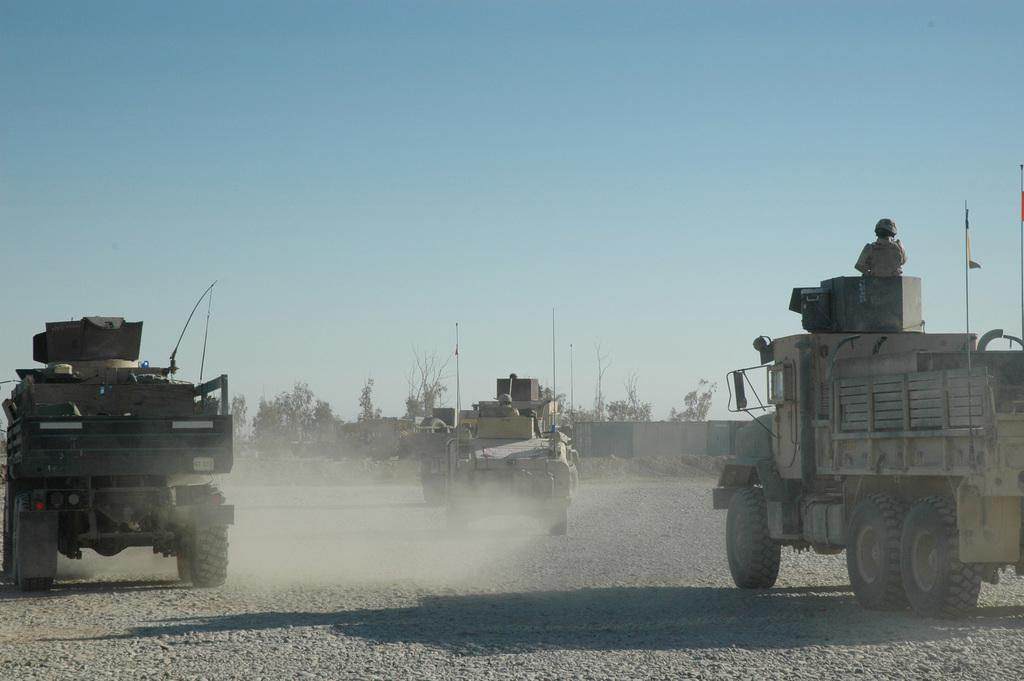Tank: (0, 286, 234, 587)
